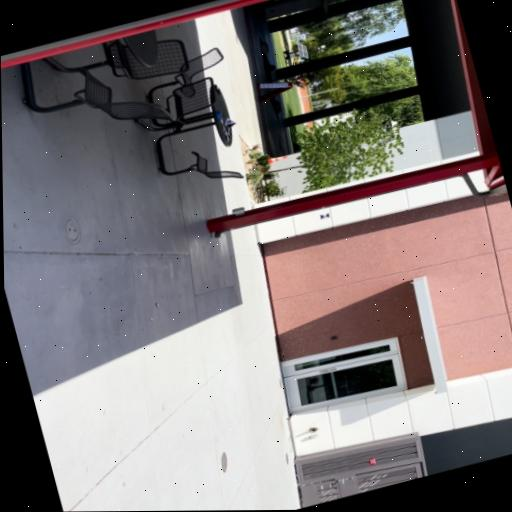target6: (319, 212, 330, 221)
